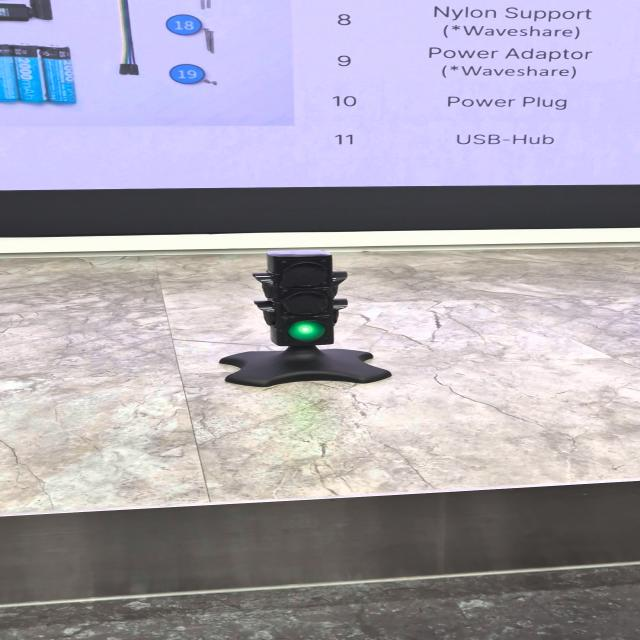green_light: (288, 321, 325, 340)
